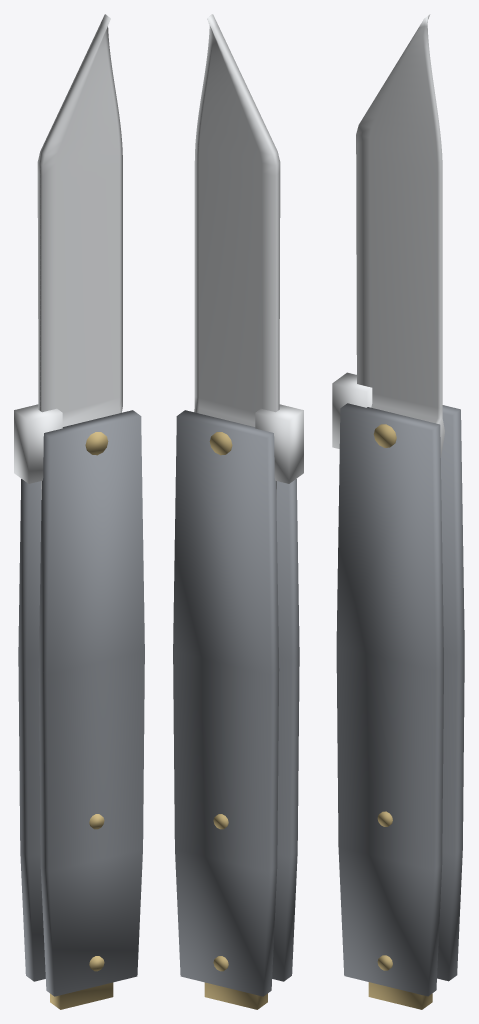
File: butterfly.glb
3 renders of one model, left to right at view 1: azimuth 30°, elevation 25°; view 2: azimuth 150°, elevation 25°; view 3: azimuth 330°, elevation 25°, orthographic.
Parts seen in each view (by area): view 1: fly_handle_b, fly_blade, fly_handle_a, fly_kicker, fly_latch, fly_pin_0.104; view 2: fly_handle_a, fly_blade, fly_handle_b, fly_kicker, fly_latch, fly_pin_0.104; view 3: fly_handle_b, fly_blade, fly_handle_a, fly_kicker, fly_latch, fly_pin_0.104.
Part boxes in pixels (left/top/right/bottom): fly_handle_b: left=38, top=410, right=144, bottom=996; fly_blade: left=37, top=14, right=122, bottom=499; fly_handle_a: left=18, top=479, right=45, bottom=981; fly_kicker: left=14, top=404, right=62, bottom=483; fly_latch: left=50, top=982, right=113, bottom=1009; fly_pin_0.104: left=85, top=432, right=108, bottom=455; fly_handle_a: left=173, top=410, right=279, bottom=996; fly_blade: left=194, top=14, right=280, bottom=499; fly_handle_b: left=272, top=479, right=299, bottom=981; fly_kicker: left=255, top=404, right=303, bottom=483; fly_latch: left=204, top=982, right=267, bottom=1009; fly_pin_0.104: left=209, top=432, right=232, bottom=455; fly_handle_b: left=336, top=403, right=443, bottom=996; fly_blade: left=356, top=14, right=444, bottom=457; fly_handle_a: left=437, top=405, right=464, bottom=981; fly_kicker: left=332, top=372, right=372, bottom=448; fly_latch: left=368, top=982, right=432, bottom=1009; fly_pin_0.104: left=373, top=424, right=396, bottom=447.
Bounding box in the file's own units: 0.029 × 0.248 × 0.0148.
